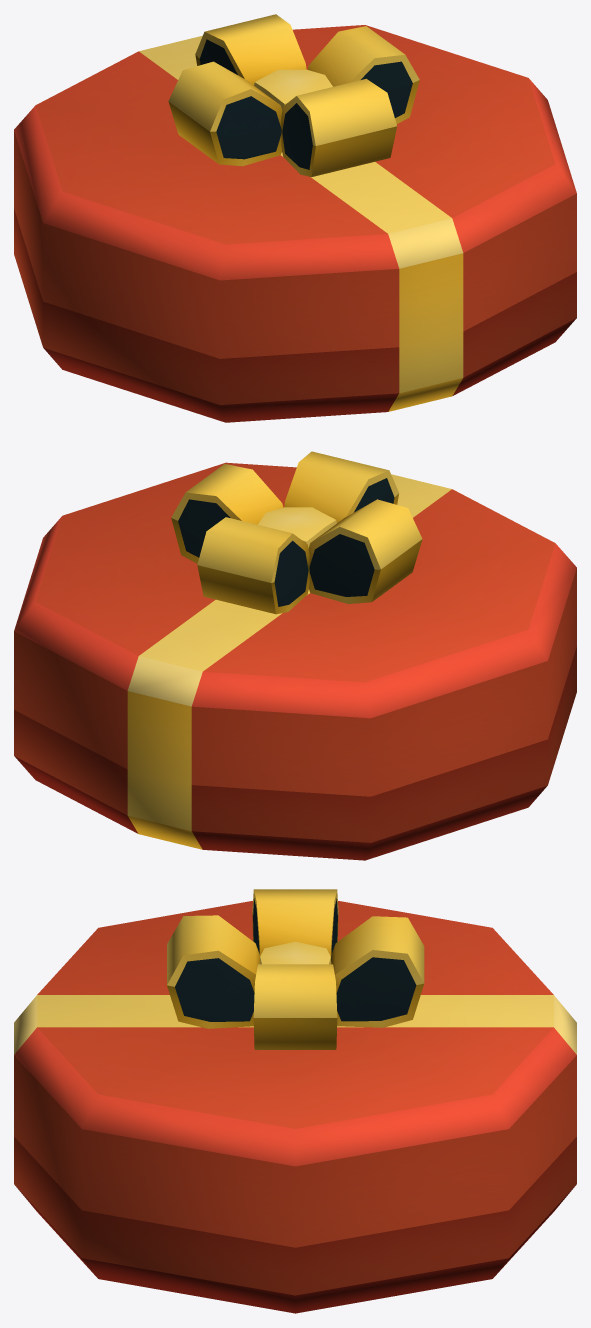
Rendered from presi_round_1_red.fbx.
The picture shows the model from 3 angles, top to bottom: view 1: azimuth 30°, elevation 25°; view 2: azimuth 150°, elevation 25°; view 3: azimuth 270°, elevation 25°; orthographic projection. The views are drawn at different scales.
Parts seen in each view (by area): view 1: presi_round_1_red; view 2: presi_round_1_red; view 3: presi_round_1_red.
Part boxes in pixels (x1,y1,x2,y2): presi_round_1_red: [14, 14, 576, 422]; presi_round_1_red: [14, 451, 576, 860]; presi_round_1_red: [14, 889, 576, 1313].
Size of the model in its own units: 162 by 77.63 by 151.
1 material, 1 textured.
